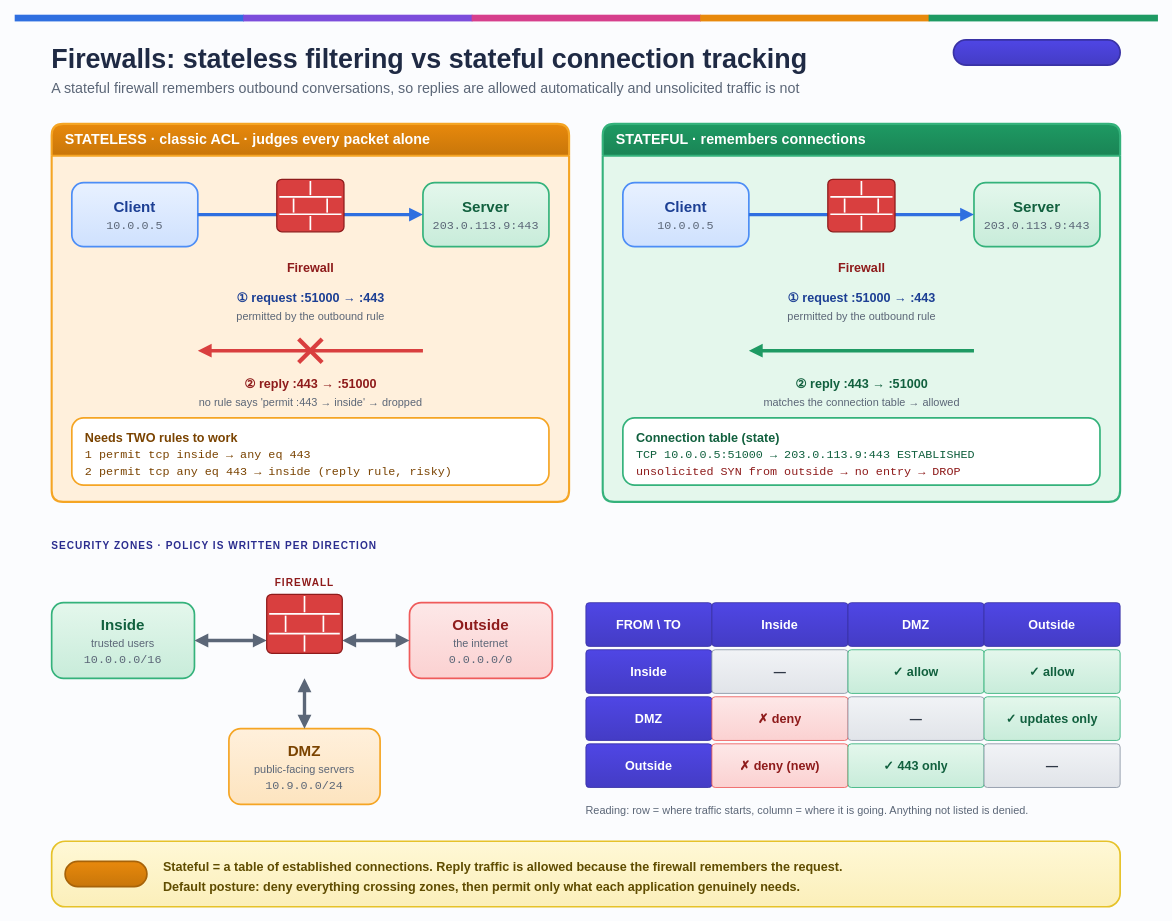
Some shapes in this 1172 by 921 pixel diagram are drawn without their labels. Each missing label, with the centre of its shape:
REMEMBER: point (105, 873)
STAGE 13 · FIREWALLS: point (1036, 52)
